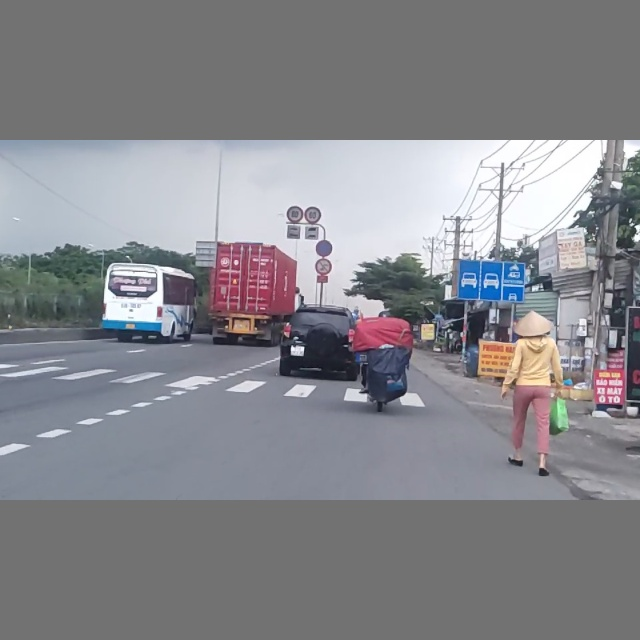P.111: (315, 258, 331, 275)
P.127*60: (305, 207, 321, 223)
P.127*80: (287, 206, 303, 223)
P.130: (315, 240, 333, 257)
R.415a: (459, 259, 524, 303)
